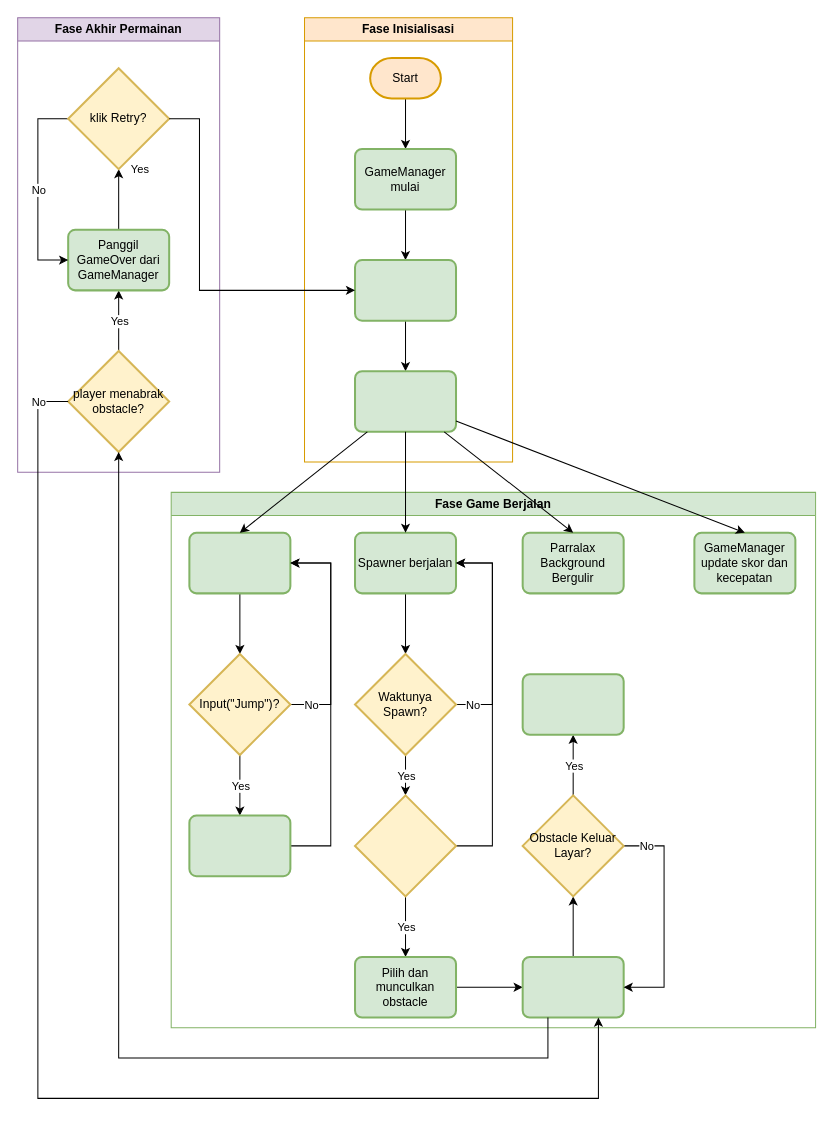
The diagram is 833 pixels wide and 1124 high, and some of its shapes have lost their labels. The shapes that lost their labels are listed below. From the top down, each one's centre as x and y in pixels, then its label:
At point (405, 290): "Memanggil NewGame()".
At point (405, 401): "Menjalankan beragam Proses".
At point (239, 562): "Player menunggu input".
At point (572, 704): "Hancurkan Obstacle".
At point (239, 845): "Player Lompat".
At point (405, 845): "Peluang Terpenuhi?".
At point (572, 986): "Obstacle Bergerak ke kiri".
